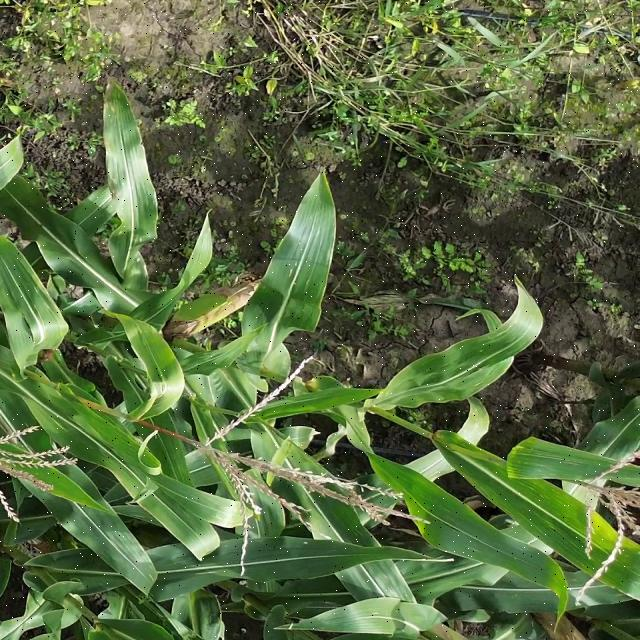southern-leaf-blight: (429, 339, 568, 510), (90, 111, 192, 286), (265, 230, 352, 324)
